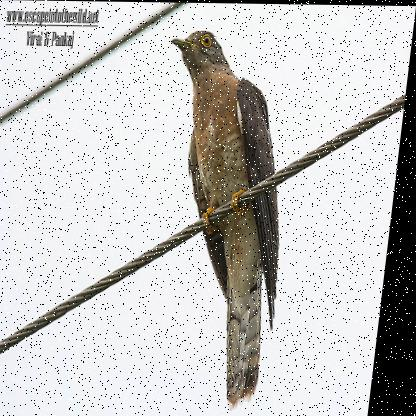Burung: (137, 28, 308, 406)
